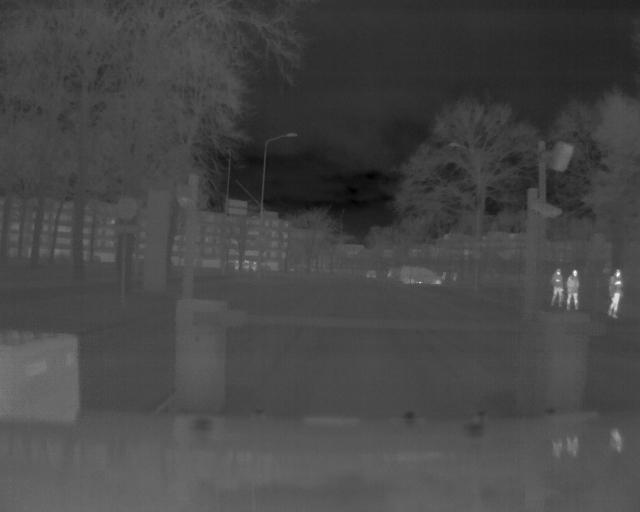car: (400, 262, 442, 286)
person: (610, 269, 621, 319), (551, 266, 564, 307), (570, 267, 579, 312)
